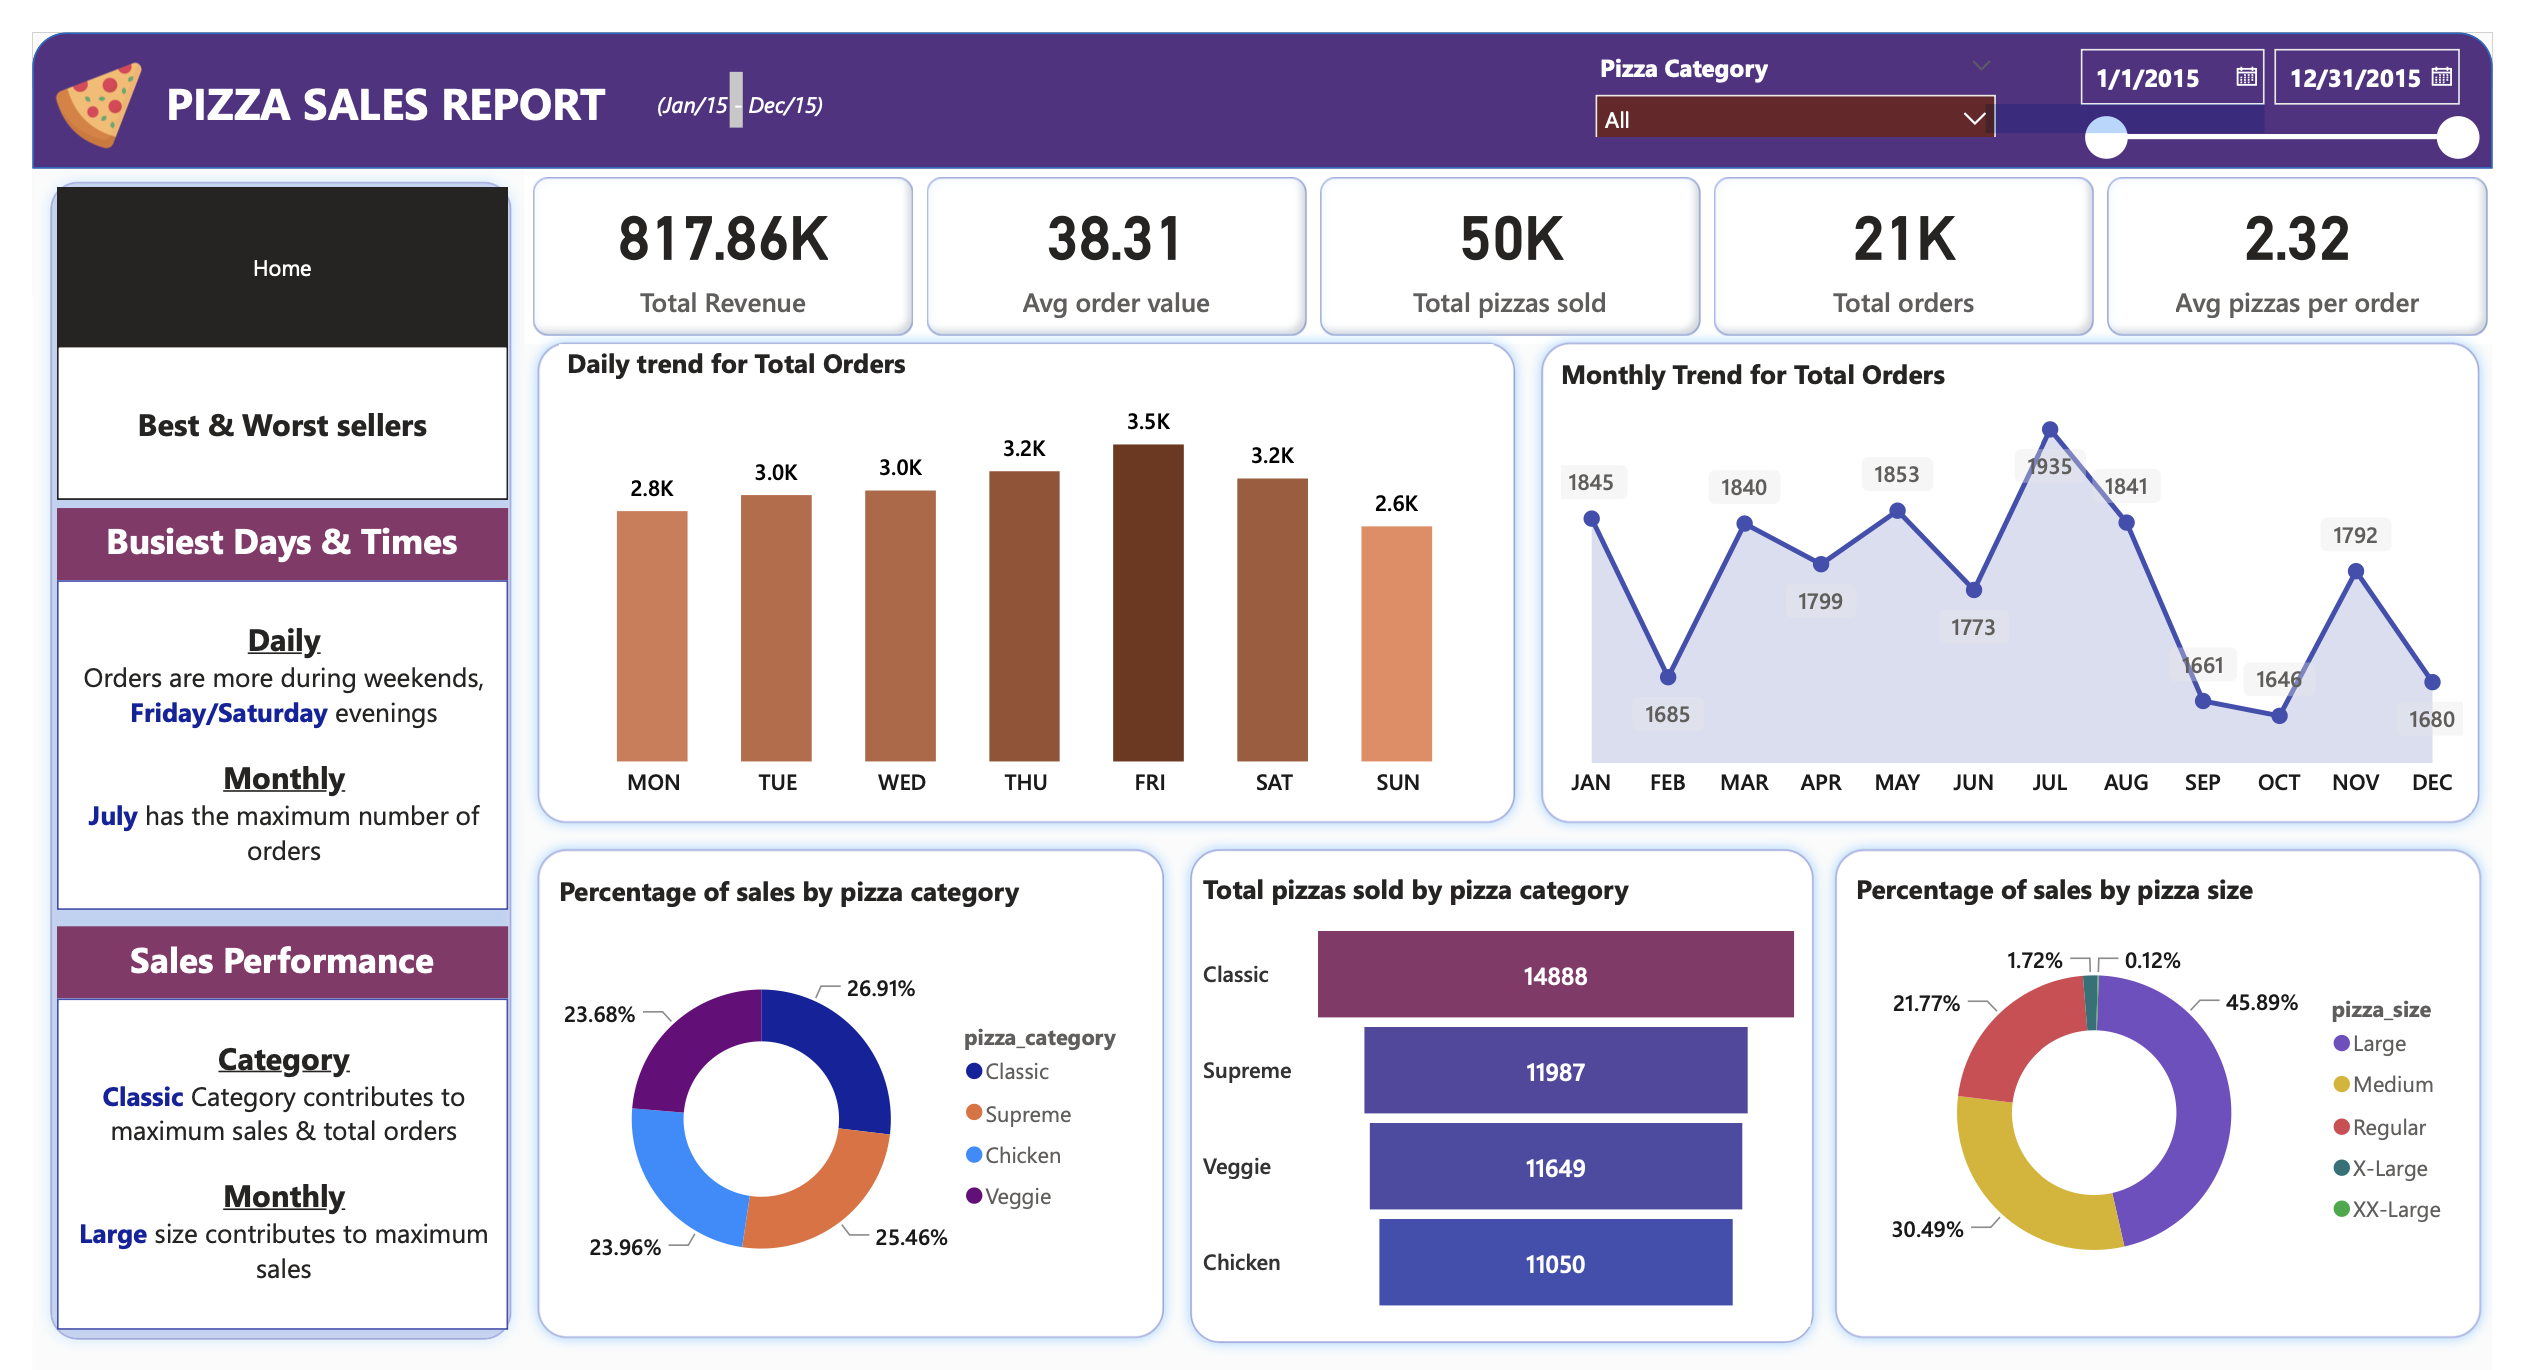

What the dashboard file says about the page in this screenshot:
{"tool":"powerbi","page":{"name":"Home","canvas":[1500,820],"ordinal":0},"visuals":[{"type":"cardVisual","fields":{"Data":["pizza_sales.Total Revenue","pizza_sales.Avg order value","pizza_sales.Total pizzas sold","pizza_sales.Total orders","pizza_sales.Avg pizzas per order"]},"box":[300.3,82.7,1204.1,107.4],"z":0},{"type":"shape","box":[0,0,1500,82.7],"z":1000},{"type":"textbox","box":[76.9,18.9,361.2,45],"z":2000},{"type":"shape","box":[2.9,82.7,297.4,722.4],"z":3000},{"type":"textbox","box":[375.7,30.5,123.3,26.1],"z":4000},{"type":"image","box":[0,11.6,81.2,65.3],"z":5000},{"type":"shape","box":[300.3,181.3,612.2,309],"z":6000},{"type":"columnChart","title":"Daily trend for Total Orders","fields":{"Category":["pizza_sales.Order Day"],"Y":["pizza_sales.Total orders"]},"box":[320.6,190,570.1,285.8],"z":7000},{"type":"shape","box":[912.5,181.3,587.5,309],"z":8000},{"type":"areaChart","title":"Monthly Trend for Total Orders","fields":{"Y":["pizza_sales.Total orders"],"Category":["pizza_sales.Order Month"]},"box":[927,197.3,560,278.5],"z":9000},{"type":"shape","box":[300.3,490.3,397.5,313.3],"z":10000},{"type":"shape","box":[697.8,490.3,396,316.2],"z":11000},{"type":"shape","box":[1090.9,490.3,410.5,313.3],"z":12000},{"type":"donutChart","title":"Percentage of sales by pizza category","fields":{"Category":["pizza_sales.pizza_category"],"Y":["pizza_sales.Total Revenue"]},"box":[316.2,512.1,365.6,278.5],"z":13000},{"type":"donutChart","title":"Percentage of sales by pizza size","fields":{"Category":["pizza_sales.pizza_size"],"Y":["pizza_sales.Total Revenue"]},"box":[1106.9,510.6,380.1,272.7],"z":14000},{"type":"funnel","title":"Total pizzas sold by pizza category","fields":{"Category":["pizza_sales.pizza_category"],"Y":["pizza_sales.Total pizzas sold"]},"box":[709.4,510.6,374.3,278.5],"z":15000},{"type":"textbox","box":[14.5,290.1,275.6,43.5],"z":16000},{"type":"textbox","box":[14.5,333.7,275.6,201.6],"z":17000},{"type":"textbox","box":[14.5,545.5,275.6,43.5],"z":18000},{"type":"textbox","box":[14.5,589,275.6,201.6],"z":19000},{"type":"slicer","fields":{"Values":["pizza_sales.order_date"]},"box":[1236,0,264,94.3],"z":20000},{"type":"slicer","fields":{"Values":["pizza_sales.pizza_category"]},"box":[942.9,5.8,264,58],"z":21000},{"type":"pageNavigator","box":[14.7,94.5,275.2,97.7],"z":22000},{"type":"pageNavigator","box":[14.7,190.6,275.2,94.5],"z":22001}]}

Visuals, with their boxes in screenshot pixels (x1, y1, x2, y2), scaled from the page's 1500x820 canvas onto the 2530x1370 screenshot:
cardVisual - pizza_sales.Total Revenue x pizza_sales.Avg order value: box=[507, 138, 2529, 318]
shape: box=[0, 0, 2529, 138]
textbox: box=[130, 32, 739, 107]
shape: box=[5, 138, 507, 1345]
textbox: box=[634, 51, 842, 95]
image: box=[0, 19, 137, 128]
shape: box=[507, 303, 1539, 819]
"Daily trend for Total Orders" columnChart: box=[541, 317, 1502, 795]
shape: box=[1539, 303, 2529, 819]
"Monthly Trend for Total Orders" areaChart: box=[1564, 330, 2508, 795]
shape: box=[507, 819, 1177, 1343]
shape: box=[1177, 819, 1845, 1347]
shape: box=[1840, 819, 2529, 1343]
"Percentage of sales by pizza category" donutChart: box=[533, 856, 1150, 1321]
"Percentage of sales by pizza size" donutChart: box=[1867, 853, 2508, 1309]
"Total pizzas sold by pizza category" funnel: box=[1197, 853, 1828, 1318]
textbox: box=[24, 485, 489, 557]
textbox: box=[24, 558, 489, 894]
textbox: box=[24, 911, 489, 984]
textbox: box=[24, 984, 489, 1321]
slicer - pizza_sales.order_date: box=[2085, 0, 2529, 158]
slicer - pizza_sales.pizza_category: box=[1590, 10, 2036, 107]
pageNavigator: box=[25, 158, 489, 321]
pageNavigator: box=[25, 318, 489, 476]
